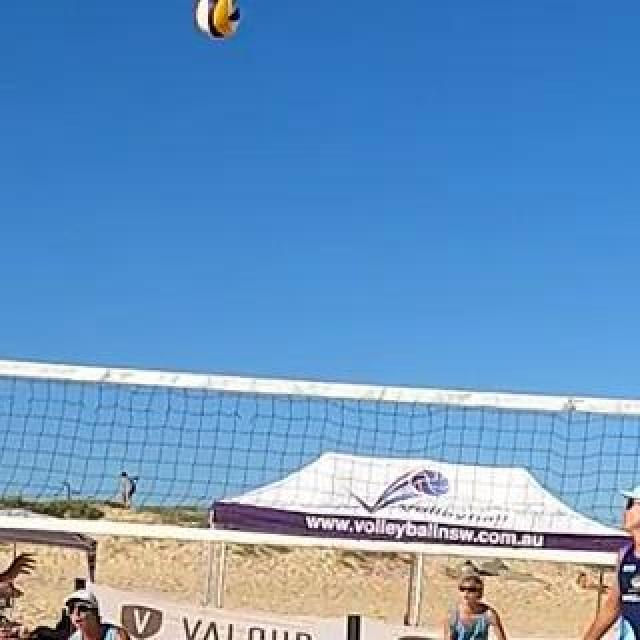volleyball: (196, 0, 240, 36)
